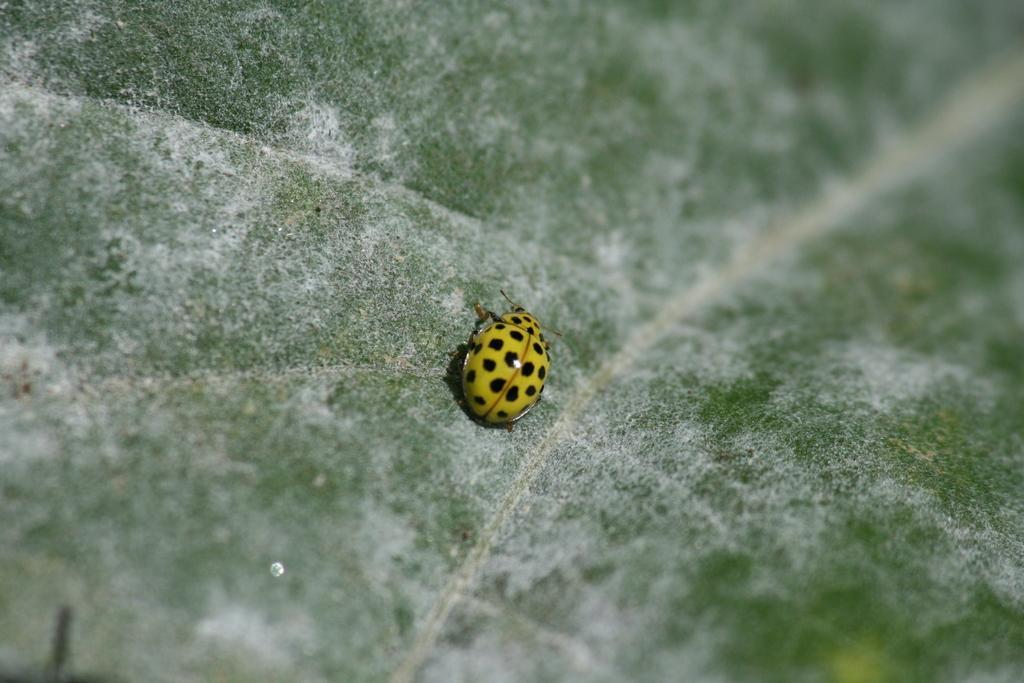ladybug: (459, 285, 557, 429)
